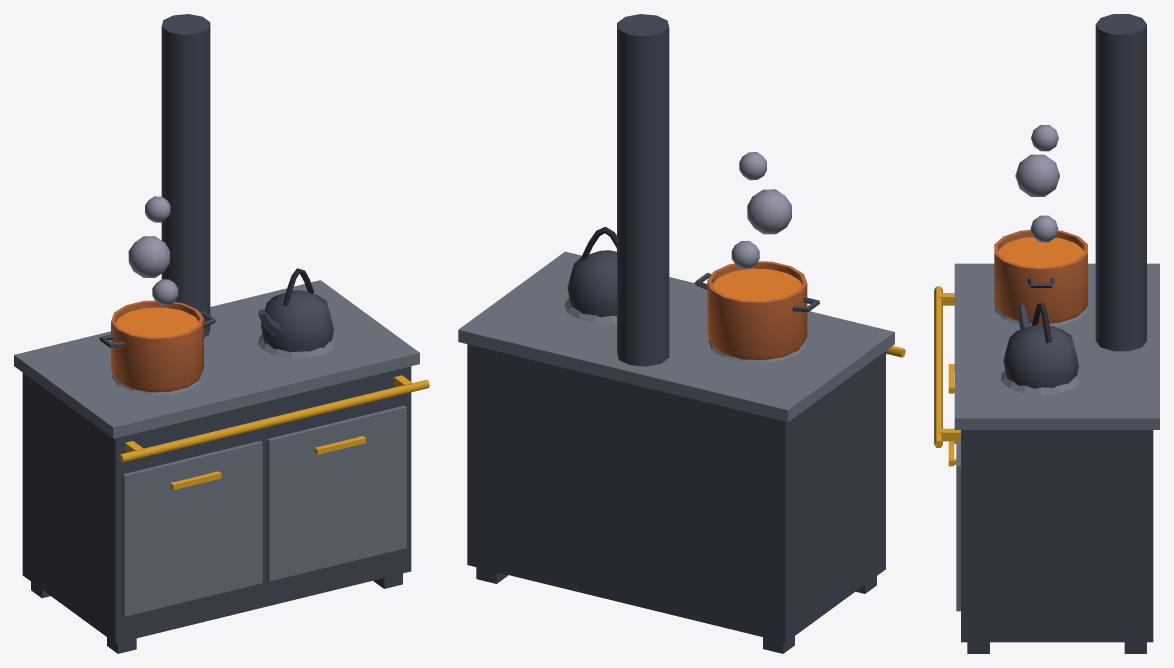
File: stove-kitchen.glb
3 renders of one model, left to right at view 1: azimuth 30°, elevation 25°; view 2: azimuth 150°, elevation 25°; view 3: azimuth 270°, elevation 25°, orthographic. The views are drawn at different scales.
Visible parts, largest first — view 1: Range doors, Range body, Range top, Range pipe, Range pot, Range kettle, Range rail, Steam, Range pot soup, Range hot plates, Range handles, Range feet; view 2: Range body, Range top, Range pipe, Range pot, Range kettle, Steam, Range pot soup, Range feet, Range hot plates; view 3: Range body, Range top, Range pipe, Range pot, Range kettle, Steam, Range pot soup, Range rail, Range hot plates, Range doors, Range feet, Range handles.
Part boxes in pixels (x1=…): Range doors: x1=122, y1=405, x2=406, y2=616; Range body: x1=22, y1=366, x2=411, y2=643; Range top: x1=14, y1=280, x2=419, y2=438; Range pipe: x1=161, y1=14, x2=210, y2=337; Range pot: x1=99, y1=300, x2=215, y2=392; Range kettle: x1=258, y1=268, x2=333, y2=352; Range rail: x1=119, y1=375, x2=429, y2=462; Steam: x1=128, y1=196, x2=178, y2=305; Range pot soup: x1=116, y1=307, x2=198, y2=390; Range hot plates: x1=112, y1=334, x2=336, y2=394; Range handles: x1=170, y1=436, x2=365, y2=489; Range feet: x1=31, y1=573, x2=402, y2=653; Range body: x1=467, y1=344, x2=885, y2=642; Range top: x1=458, y1=251, x2=894, y2=422; Range pipe: x1=617, y1=14, x2=669, y2=366; Range pot: x1=694, y1=261, x2=819, y2=360; Range kettle: x1=567, y1=226, x2=616, y2=317; Steam: x1=731, y1=152, x2=791, y2=268; Range pot soup: x1=713, y1=268, x2=801, y2=357; Range feet: x1=476, y1=567, x2=876, y2=653; Range hot plates: x1=564, y1=298, x2=806, y2=362; Range body: x1=961, y1=430, x2=1153, y2=642; Range top: x1=954, y1=263, x2=1159, y2=429; Range pipe: x1=1095, y1=14, x2=1146, y2=351; Range pot: x1=994, y1=229, x2=1087, y2=324; Range kettle: x1=1003, y1=303, x2=1078, y2=388; Steam: x1=1015, y1=125, x2=1059, y2=242; Range pot soup: x1=998, y1=237, x2=1084, y2=322; Range rail: x1=934, y1=286, x2=960, y2=447; Range hot plates: x1=995, y1=306, x2=1087, y2=394; Range doors: x1=956, y1=441, x2=960, y2=611; Range feet: x1=967, y1=642, x2=1146, y2=653; Range handles: x1=948, y1=364, x2=956, y2=466.
Size of the model in its own units: 1.14 by 1.92 by 0.704.
